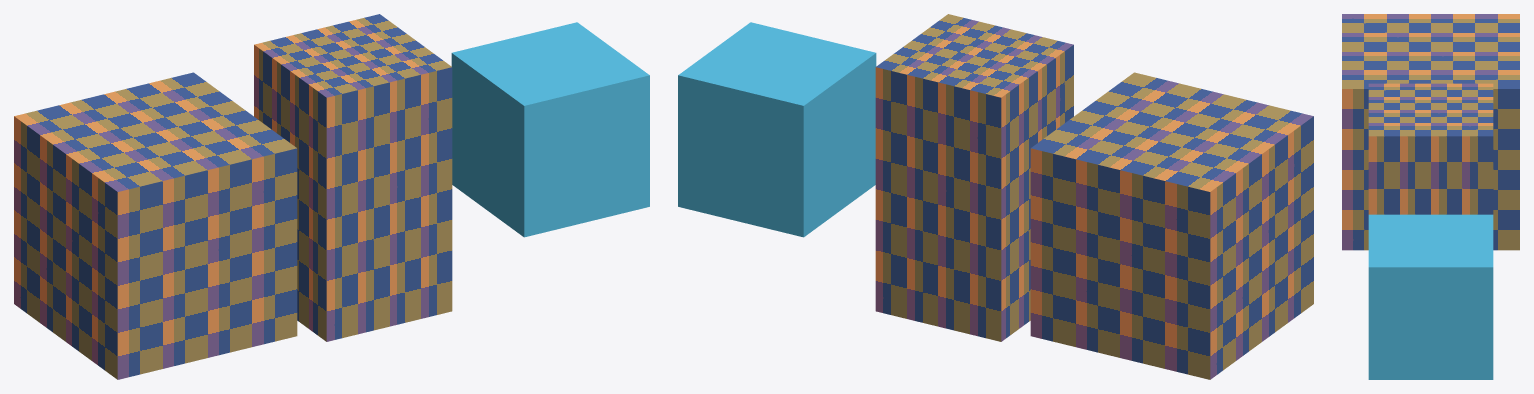
3 renders of one model, left to right at view 1: azimuth 30°, elevation 25°; view 2: azimuth 150°, elevation 25°; view 3: azimuth 270°, elevation 25°, orthographic. The views are drawn at different scales.
Bounding box in the file's own units: 3.05 × 1.3 × 1.
Materials: 2 (1 with a texture image).
